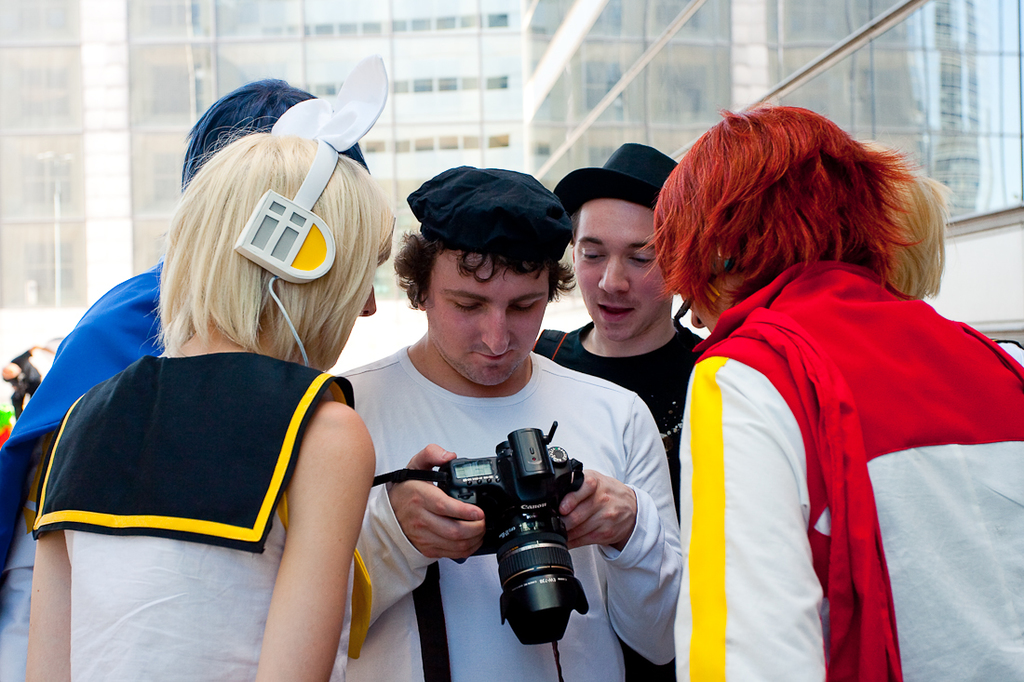Human-face: (431, 251, 547, 386), (575, 198, 677, 340)
